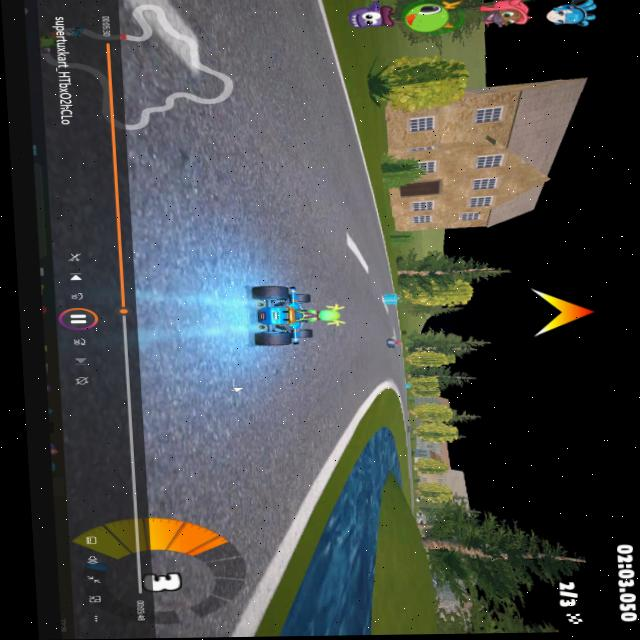bonus: (379, 291, 401, 308)
enemy_kart: (382, 335, 400, 351)
player_kart: (234, 283, 351, 351)
track: (118, 0, 262, 638), (234, 135, 367, 285), (227, 28, 333, 136), (250, 392, 342, 473), (242, 348, 383, 392), (256, 473, 317, 524), (226, 0, 319, 28), (347, 283, 379, 350), (368, 245, 389, 290), (382, 351, 404, 388), (377, 307, 403, 334), (332, 101, 352, 136), (366, 216, 384, 246), (397, 390, 412, 419)
